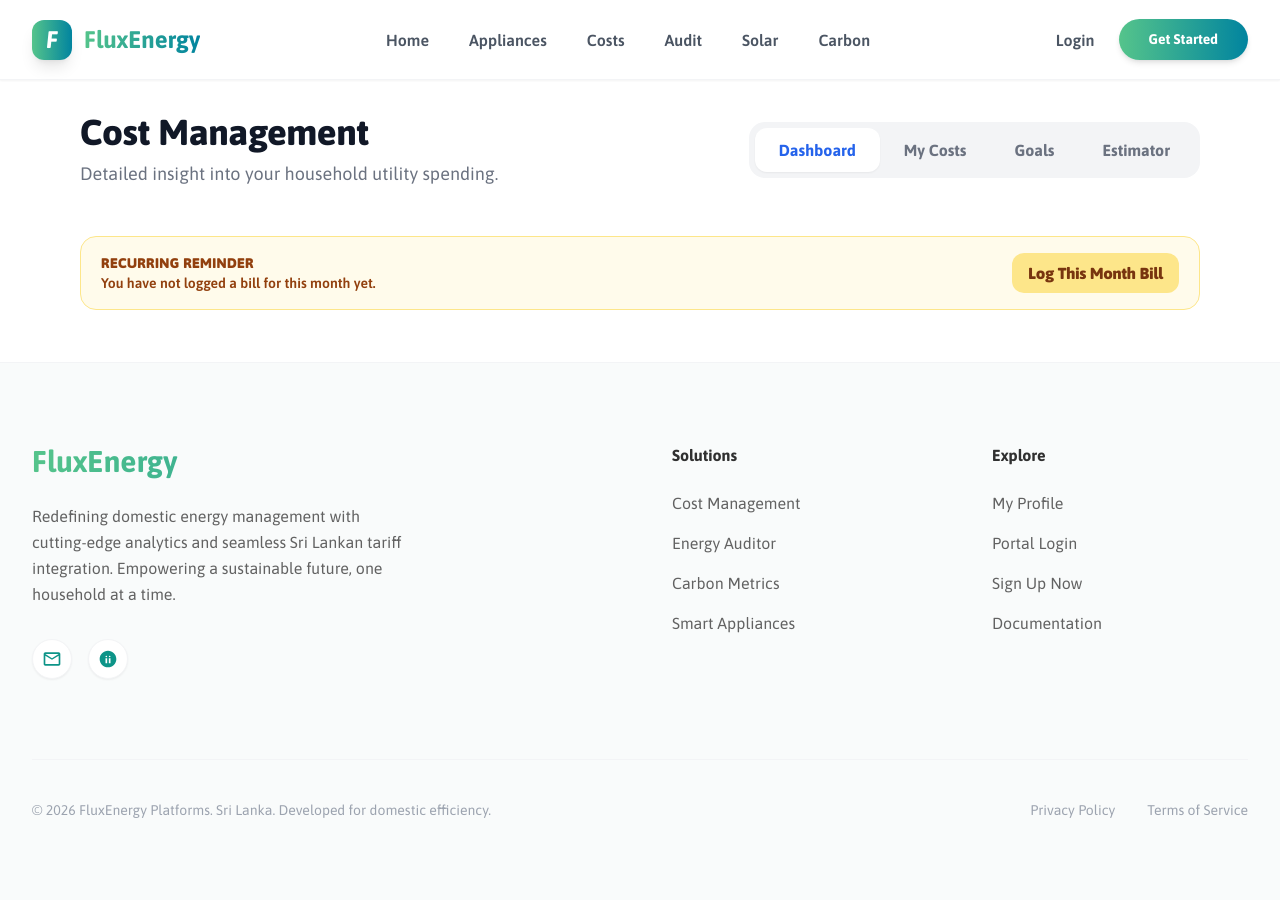
Test: CostManagement › switches to My Costs tab and displays costs
The width and height of the screenshot is (1280, 900).
Click the button "My Costs".
click(935, 150)  # box [880,128,990,172]
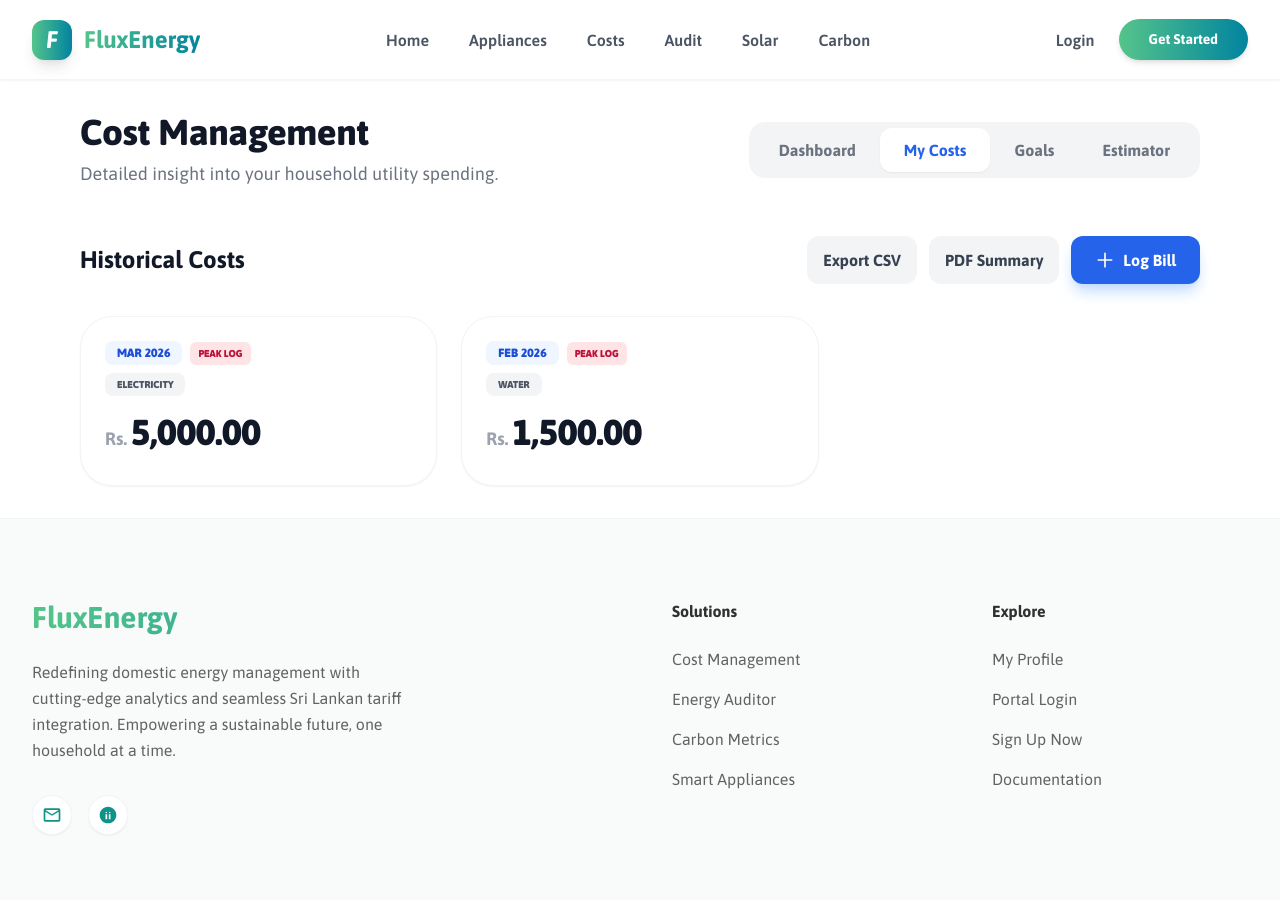
Expected: the text "Rs.5,000.00" is shown, [105,411,261,453]
Expected: the text "Rs.1,500.00" is shown, [486,411,642,453]
